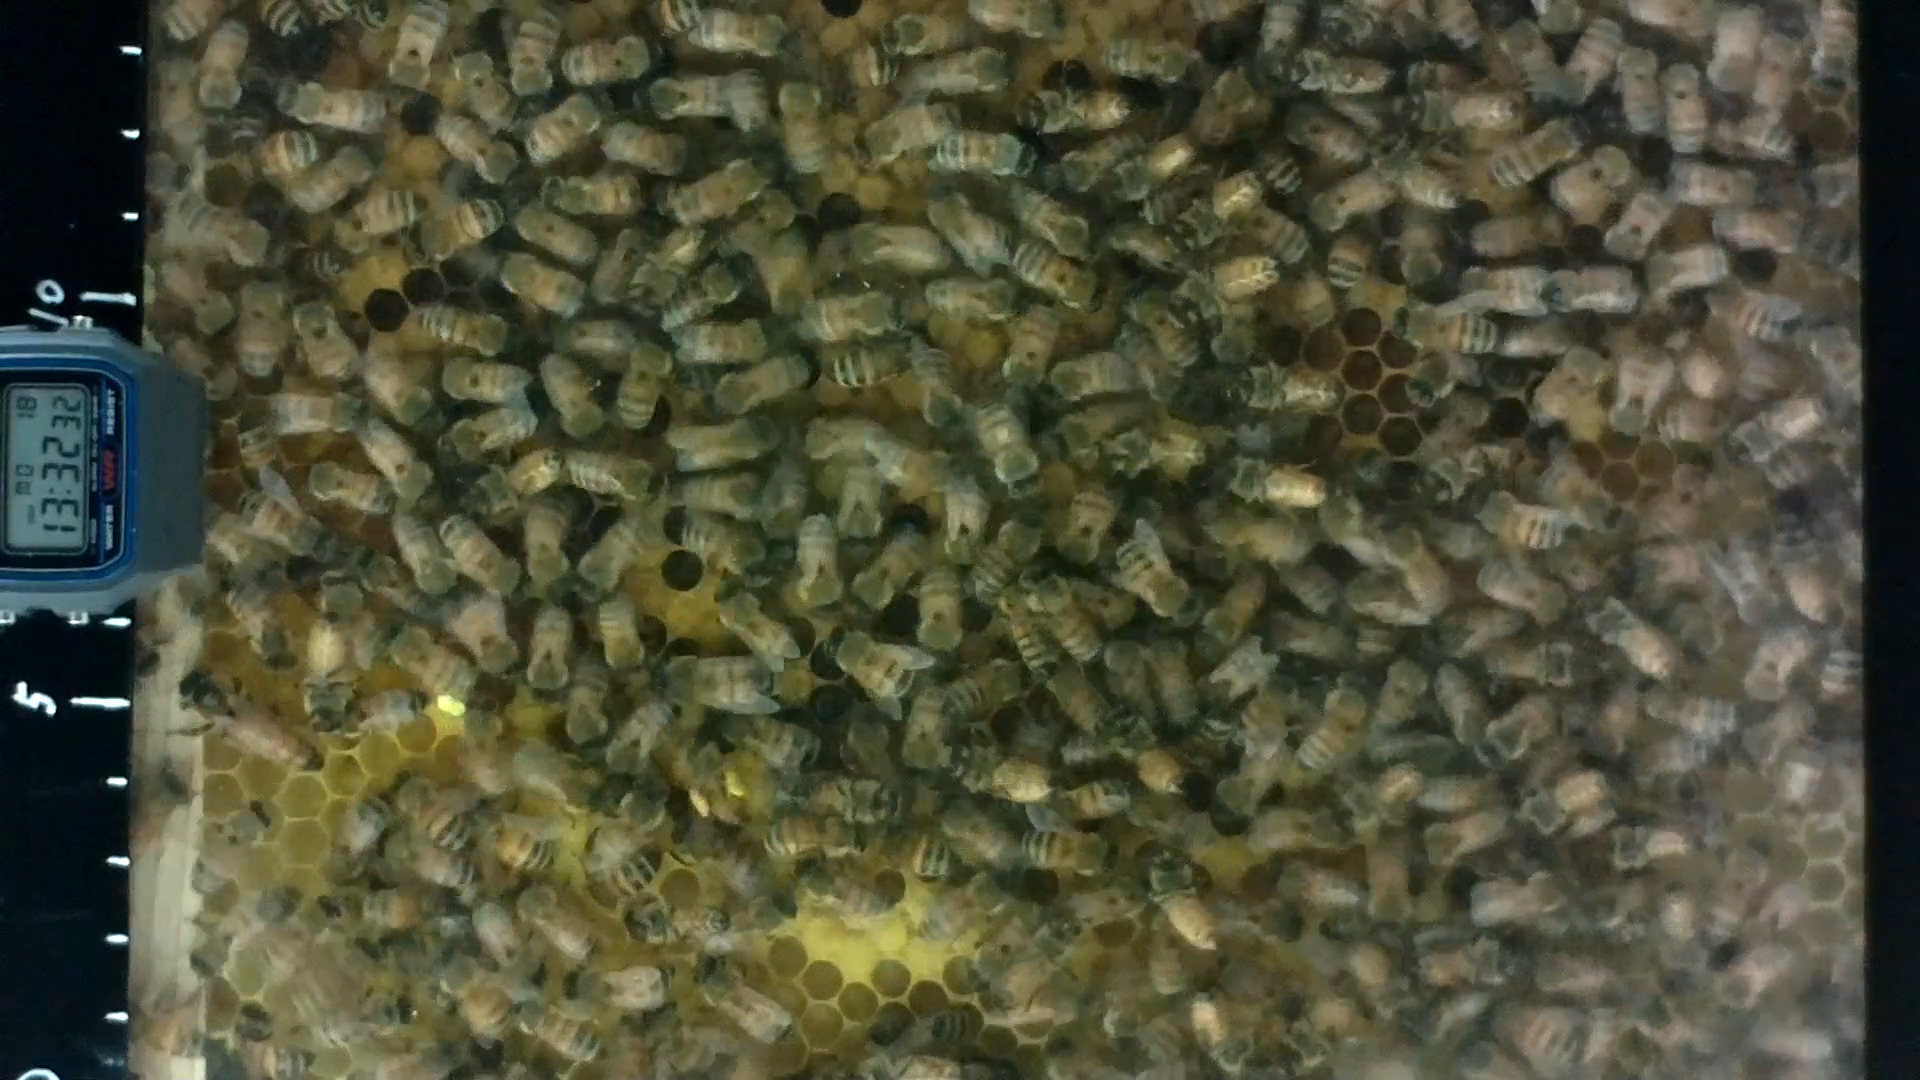hati: (695, 961, 790, 1055), (819, 624, 915, 712), (969, 396, 1050, 501), (1385, 297, 1499, 371), (1466, 488, 1564, 571), (513, 877, 603, 965), (1221, 450, 1335, 517), (386, 767, 469, 855), (485, 255, 587, 326), (245, 488, 338, 566), (219, 578, 291, 676), (517, 993, 604, 1073), (427, 119, 520, 194), (1113, 535, 1193, 621), (287, 290, 357, 388), (414, 295, 526, 355), (791, 861, 887, 930), (280, 74, 392, 131), (715, 357, 808, 423), (935, 131, 1034, 193), (1535, 262, 1638, 320), (560, 447, 653, 512), (498, 3, 558, 102), (440, 351, 537, 411), (669, 655, 775, 709), (779, 73, 835, 177), (676, 516, 764, 582), (538, 170, 646, 222), (1615, 340, 1668, 442), (1026, 84, 1137, 132), (920, 272, 1013, 328), (233, 272, 285, 373), (691, 9, 787, 63), (864, 100, 944, 165), (796, 513, 848, 613), (603, 119, 684, 181), (1100, 32, 1188, 88), (563, 36, 661, 86), (1023, 825, 1110, 881), (1664, 57, 1710, 158), (634, 897, 729, 945), (803, 293, 899, 340), (922, 564, 964, 673), (518, 607, 571, 692), (621, 338, 669, 431), (527, 94, 595, 160), (676, 316, 767, 363), (1648, 243, 1733, 291)
